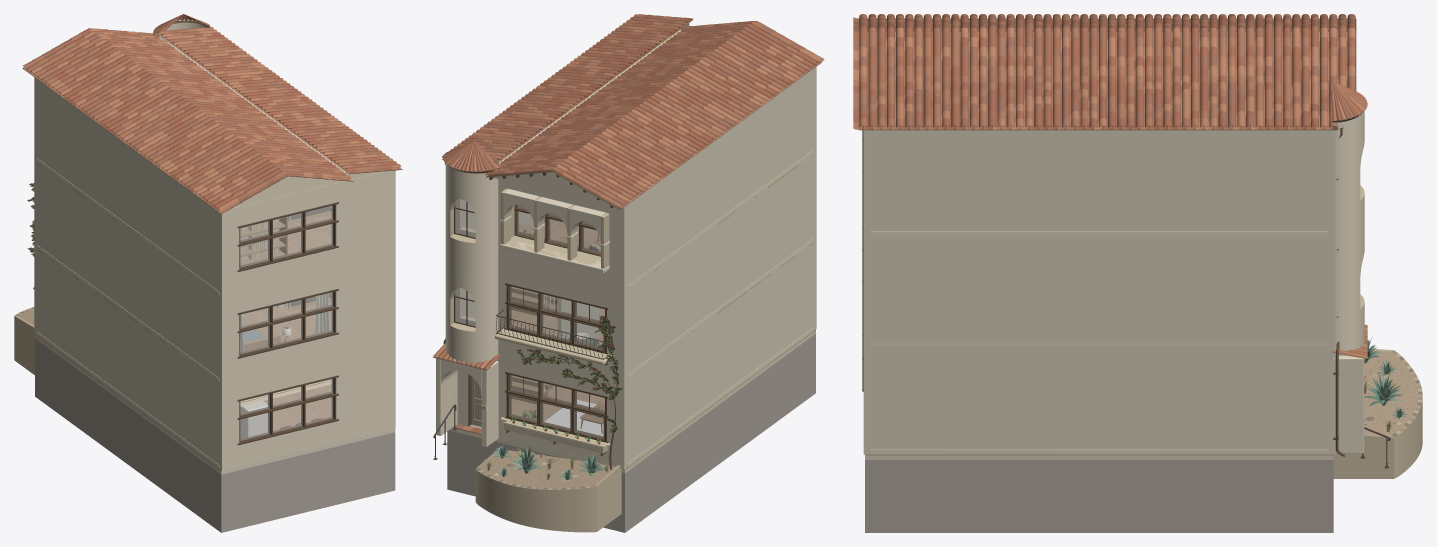
File: terrace.glb
The picture shows the model from 3 angles, left to right: view 1: azimuth 30°, elevation 25°; view 2: azimuth 150°, elevation 25°; view 3: azimuth 270°, elevation 25°; orthographic projection. The views are drawn at different scales.
Parts seen in each view (by area): view 1: foundation - cast-stone@b9b2a7, ground-storey - lime-plaster@e3dbc6, bedroom-storey - lime-plaster@e3dbc6, workroom-storey - lime-plaster@e3dbc6, workroom-storey - painted-stucco@eadfc8, ground-storey - painted-stucco@eadfc8, bedroom-storey - painted-stucco@eadfc8, terrace-roof - fired-clay@bf8769, terrace-roof - fired-clay@ab7056, terrace-roof - fired-clay@b37c60, terrace-roof - fired-clay@a96e56, terrace-roof - fired-clay@a7745e (+21 smaller); view 2: ground-storey - lime-plaster@e3dbc6, bedroom-storey - lime-plaster@e3dbc6, workroom-storey - lime-plaster@e3dbc6, foundation - cast-stone@b9b2a7, rounded-stair-bay - painted-stucco@eadfc8, terrace-roof - fired-clay@bf8769, terrace-roof - fired-clay@ab7056, terrace-roof - fired-clay@b37c60, terrace-roof - fired-clay@a96e56, terrace-roof - fired-clay@a7745e, terrace-roof - fired-clay@b07b62, front-dry-garden - float-finish-stucco@d5c6aa (+34 smaller); view 3: ground-storey - lime-plaster@e3dbc6, bedroom-storey - lime-plaster@e3dbc6, workroom-storey - lime-plaster@e3dbc6, foundation - cast-stone@b9b2a7, terrace-roof - fired-clay@ab7056, terrace-roof - fired-clay@bf8769, terrace-roof - fired-clay@a7745e, terrace-roof - fired-clay@a96e56, terrace-roof - fired-clay@b37c60, terrace-roof - fired-clay@b07b62, rounded-stair-bay - painted-stucco@eadfc8, front-dry-garden - float-finish-stucco@d5c6aa (+6 smaller).
Boxes of the visible parts, x1,y1,x2,y2 form: foundation - cast-stone@b9b2a7: (35, 338, 395, 532); ground-storey - lime-plaster@e3dbc6: (35, 248, 395, 474); bedroom-storey - lime-plaster@e3dbc6: (35, 161, 331, 385); workroom-storey - lime-plaster@e3dbc6: (35, 42, 331, 300); workroom-storey - painted-stucco@eadfc8: (34, 77, 395, 297); ground-storey - painted-stucco@eadfc8: (34, 247, 395, 470); bedroom-storey - painted-stucco@eadfc8: (34, 160, 395, 384); terrace-roof - fired-clay@bf8769: (30, 27, 377, 213); terrace-roof - fired-clay@ab7056: (51, 29, 388, 208); terrace-roof - fired-clay@b37c60: (32, 28, 402, 200); terrace-roof - fired-clay@a96e56: (43, 28, 397, 210); terrace-roof - fired-clay@a7745e: (26, 29, 385, 202); ground-storey - lime-plaster@e3dbc6: (449, 241, 815, 473); bedroom-storey - lime-plaster@e3dbc6: (460, 152, 815, 380); workroom-storey - lime-plaster@e3dbc6: (460, 30, 815, 291); foundation - cast-stone@b9b2a7: (447, 334, 815, 532); rounded-stair-bay - painted-stucco@eadfc8: (445, 163, 498, 363); terrace-roof - fired-clay@bf8769: (472, 22, 824, 202); terrace-roof - fired-clay@ab7056: (464, 17, 816, 188); terrace-roof - fired-clay@b37c60: (457, 14, 805, 202); terrace-roof - fired-clay@a96e56: (450, 14, 820, 194); terrace-roof - fired-clay@a7745e: (474, 15, 804, 205); terrace-roof - fired-clay@b07b62: (442, 16, 812, 207); front-dry-garden - float-finish-stucco@d5c6aa: (475, 466, 621, 532); ground-storey - lime-plaster@e3dbc6: (865, 345, 1333, 459); bedroom-storey - lime-plaster@e3dbc6: (865, 237, 1333, 350); workroom-storey - lime-plaster@e3dbc6: (865, 130, 1333, 241); foundation - cast-stone@b9b2a7: (865, 460, 1333, 532); terrace-roof - fired-clay@ab7056: (853, 14, 1355, 129); terrace-roof - fired-clay@bf8769: (853, 14, 1355, 129); terrace-roof - fired-clay@a7745e: (853, 14, 1355, 129); terrace-roof - fired-clay@a96e56: (853, 14, 1355, 129); terrace-roof - fired-clay@b37c60: (853, 14, 1355, 129); terrace-roof - fired-clay@b07b62: (853, 14, 1355, 129); rounded-stair-bay - painted-stucco@eadfc8: (1333, 111, 1364, 356); front-dry-garden - float-finish-stucco@d5c6aa: (1333, 350, 1422, 478).
Size of the model in its own units: 7.3 by 13.37 by 15.79.
